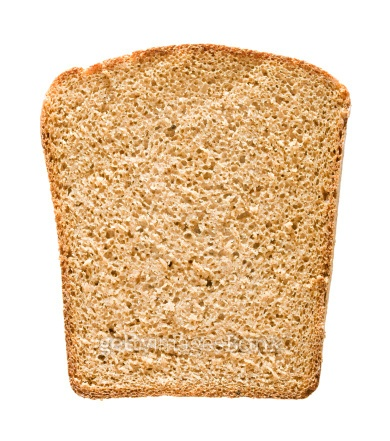slice of bread: (33, 36, 354, 404)
